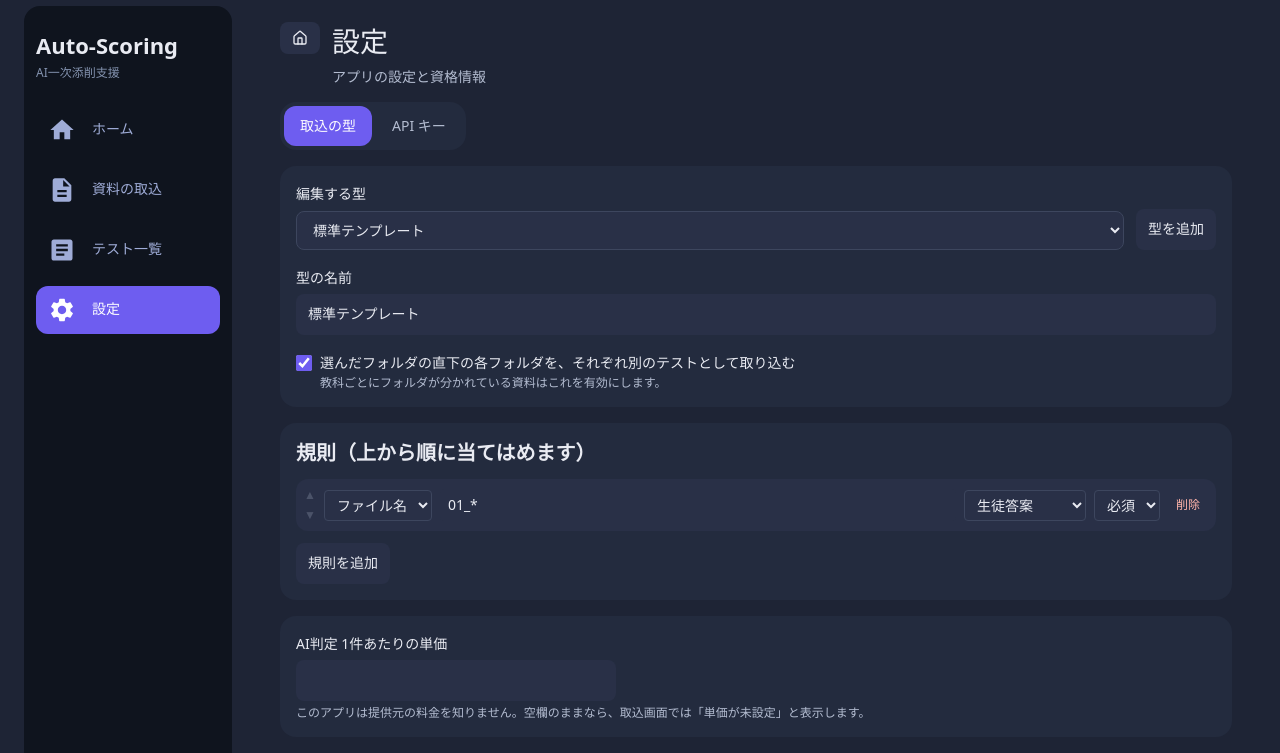
it: SettingsPage & ApiKeyTab invariants (INV-107 / Issue #249) › 取込の型タブ: 規則の編集と保存ができる
# Default tab is 取込の型
Replace the text in the field with test id "settings-rule-pattern-0" with "answers_*" at (698, 505), box [440,489,956,521]
(page scrolled)
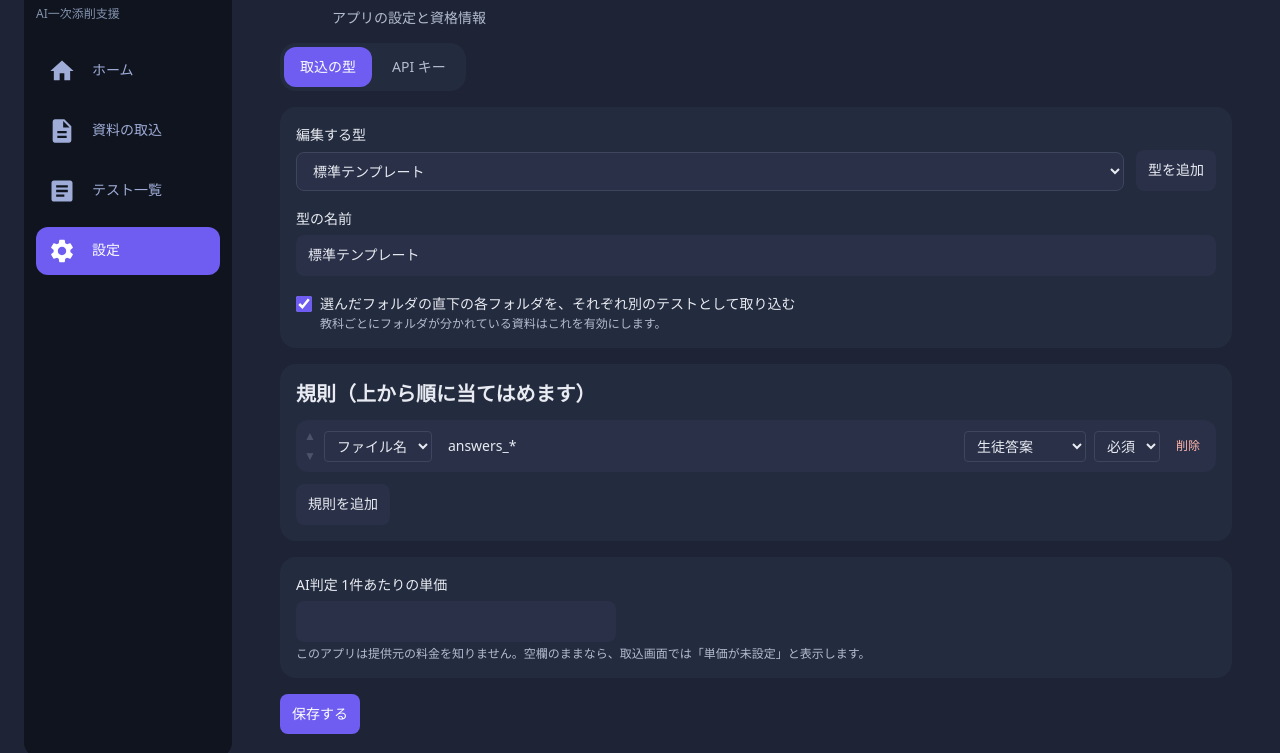
# Click save
Click the button with test id "settings-save".
click(320, 714)  # box [280,694,360,734]
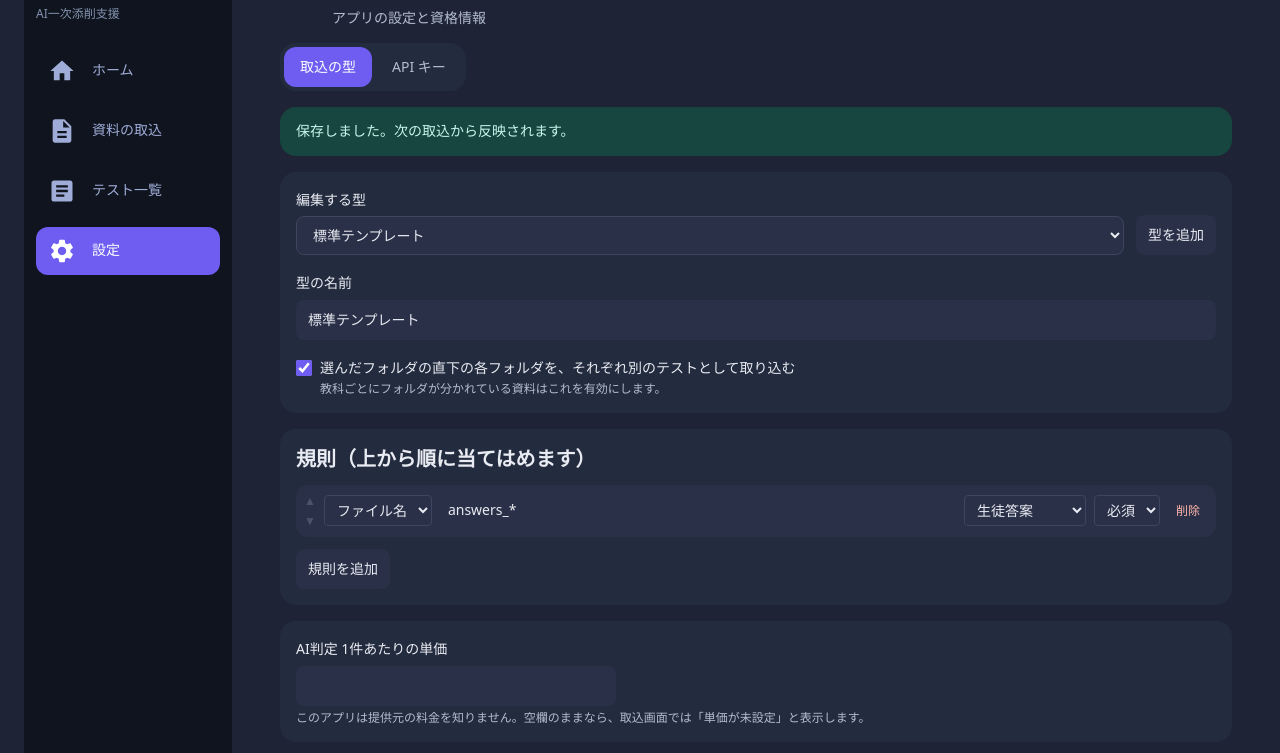
Check: the message with test id "settings-saved-notice" reads "保存しました。次の取込から反映されます。", box [296,121,575,140]
